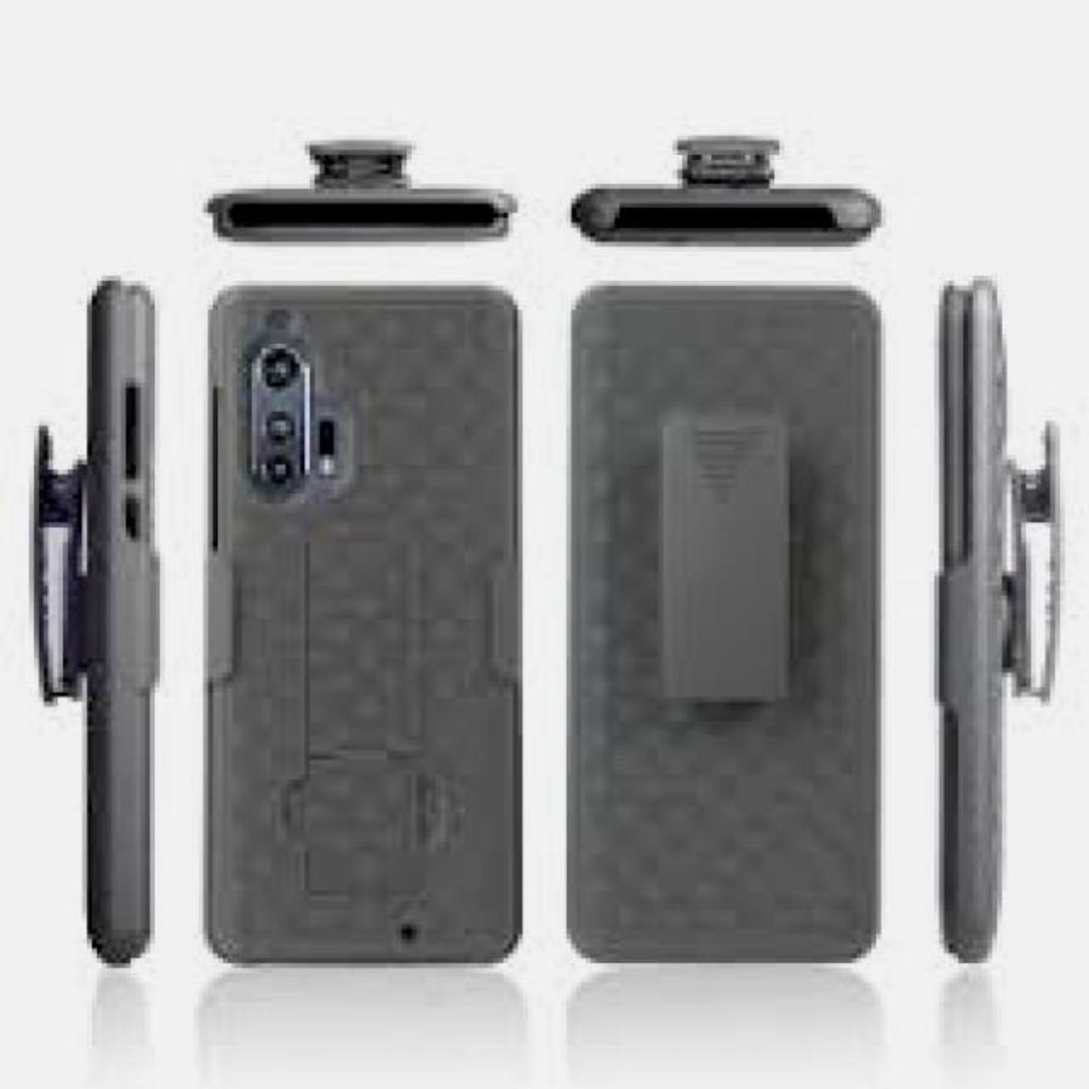phone: (202, 279, 533, 965), (572, 269, 885, 966)
